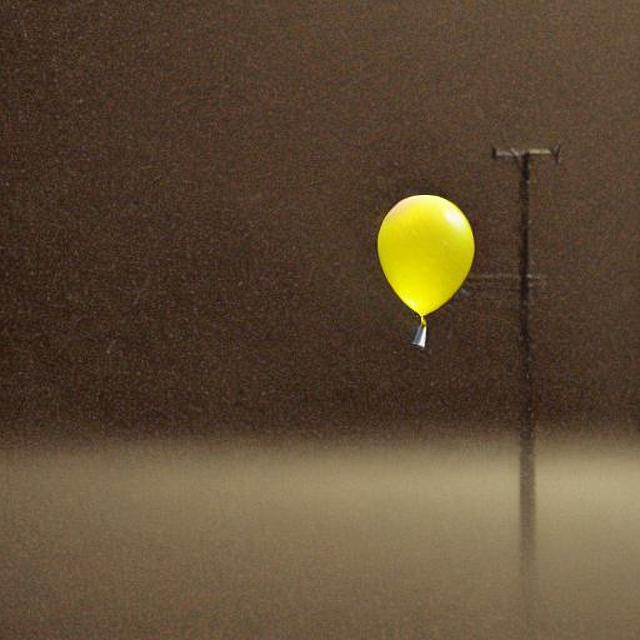balloon: (370, 190, 474, 342)
